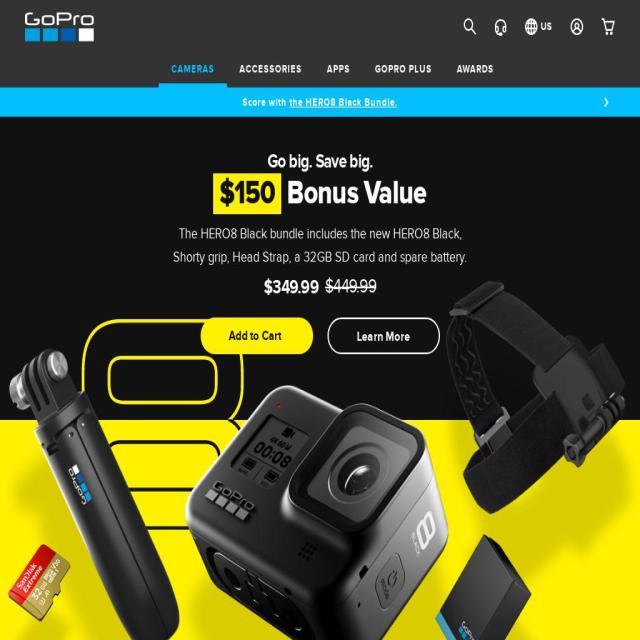button: (200, 318, 313, 354), (327, 318, 440, 354), (227, 51, 314, 87), (362, 51, 444, 87), (159, 51, 227, 87), (444, 51, 506, 87), (25, 13, 94, 42), (314, 51, 362, 87)
heading: (166, 149, 474, 173), (282, 173, 428, 214), (213, 173, 282, 214)
image: (0, 281, 640, 640), (0, 419, 640, 640), (25, 13, 94, 42)
link: (290, 95, 398, 109)
text: (166, 223, 474, 269), (263, 275, 319, 299), (325, 275, 376, 298), (239, 62, 302, 76), (375, 62, 432, 76), (242, 95, 290, 109), (172, 62, 214, 76), (457, 62, 494, 76), (327, 62, 350, 76), (540, 20, 552, 34)
